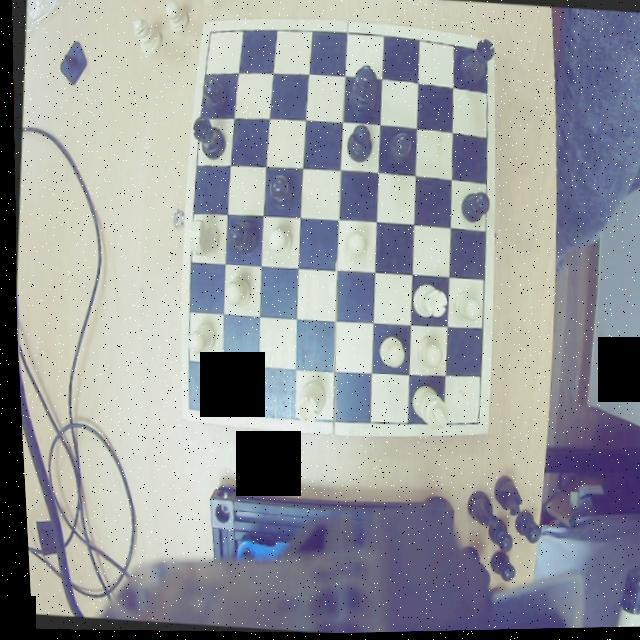chess-table-corners: (177, 393, 200, 420), (458, 412, 482, 437), (476, 41, 494, 70), (204, 22, 225, 44)
